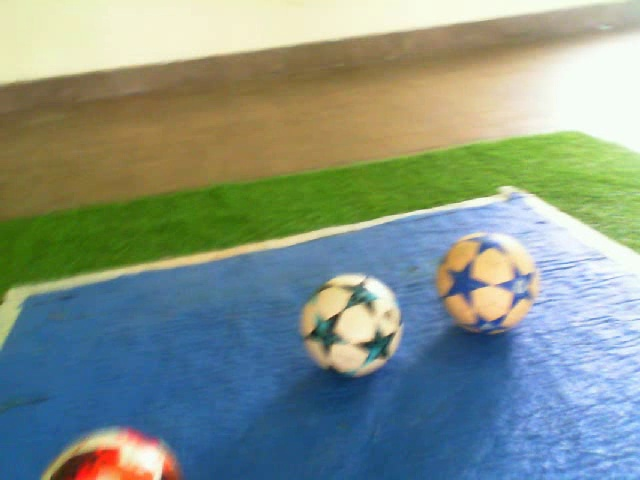ball: (431, 225, 544, 340), (294, 269, 407, 381), (36, 420, 187, 480)
